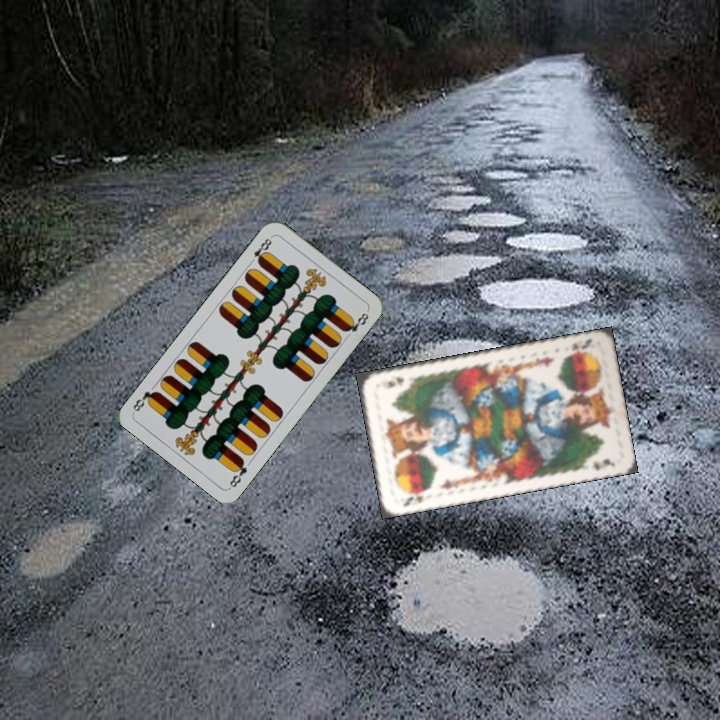E8: (245, 232, 275, 267), (225, 455, 250, 491)
SK: (563, 334, 595, 358), (399, 486, 432, 509)
